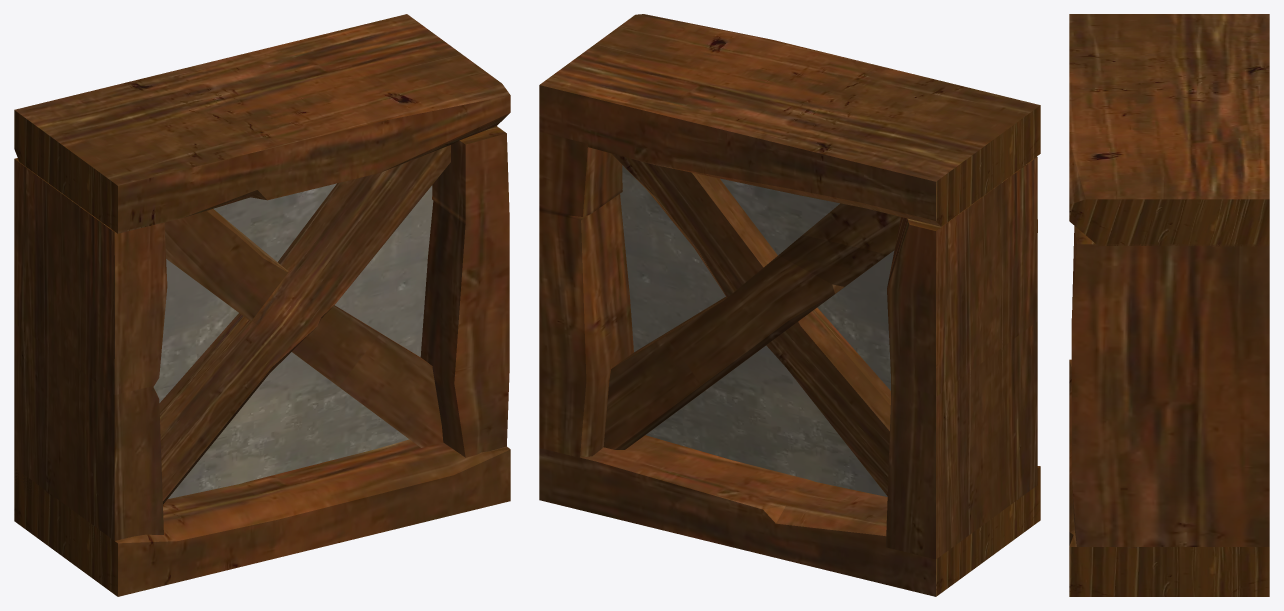
3 renders of one model, left to right at view 1: azimuth 30°, elevation 25°; view 2: azimuth 150°, elevation 25°; view 3: azimuth 270°, elevation 25°, orthographic. The views are drawn at different scales.
Parts seen in each view (by area): view 1: SM_BB_T2_Wall_Small_LOD0; view 2: SM_BB_T2_Wall_Small_LOD0; view 3: SM_BB_T2_Wall_Small_LOD0.
Boxes of the visible parts, bbox=[...] form: SM_BB_T2_Wall_Small_LOD0: bbox=[14, 14, 510, 596]; SM_BB_T2_Wall_Small_LOD0: bbox=[539, 14, 1040, 596]; SM_BB_T2_Wall_Small_LOD0: bbox=[1069, 14, 1269, 596].
Bounding box in the file's own units: 0.75 × 0.75 × 0.3427.
Materials: 2 (2 with a texture image).
